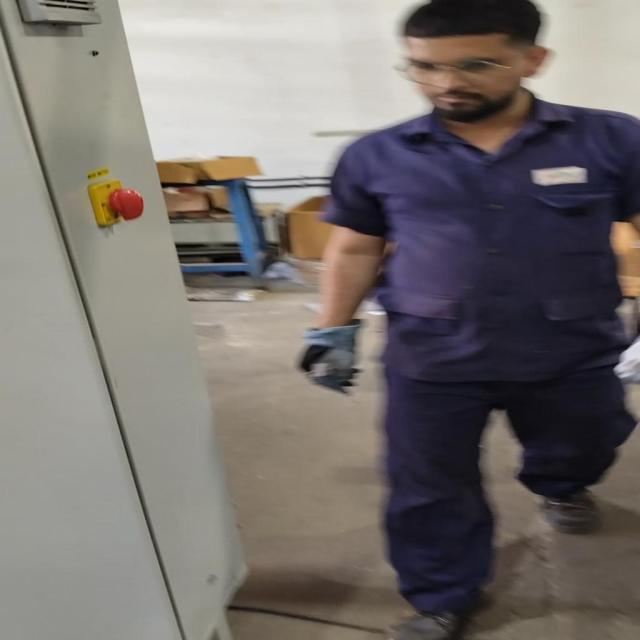Gloves-Detection: (297, 323, 361, 378)
